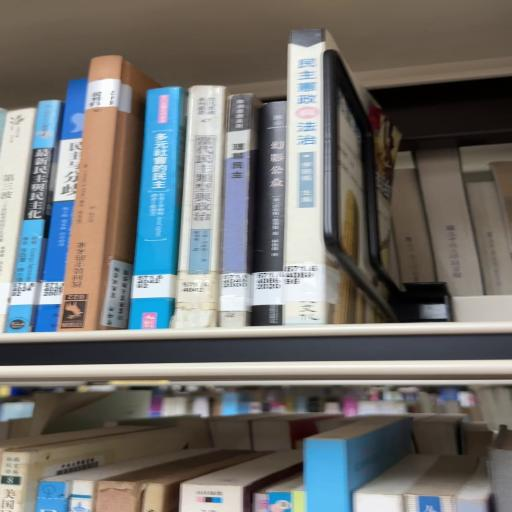book: (284, 29, 342, 326), (129, 88, 189, 331), (172, 86, 229, 329), (6, 101, 65, 334), (36, 79, 88, 333), (220, 95, 262, 328), (253, 102, 287, 327)
reverse: (59, 56, 161, 333)
